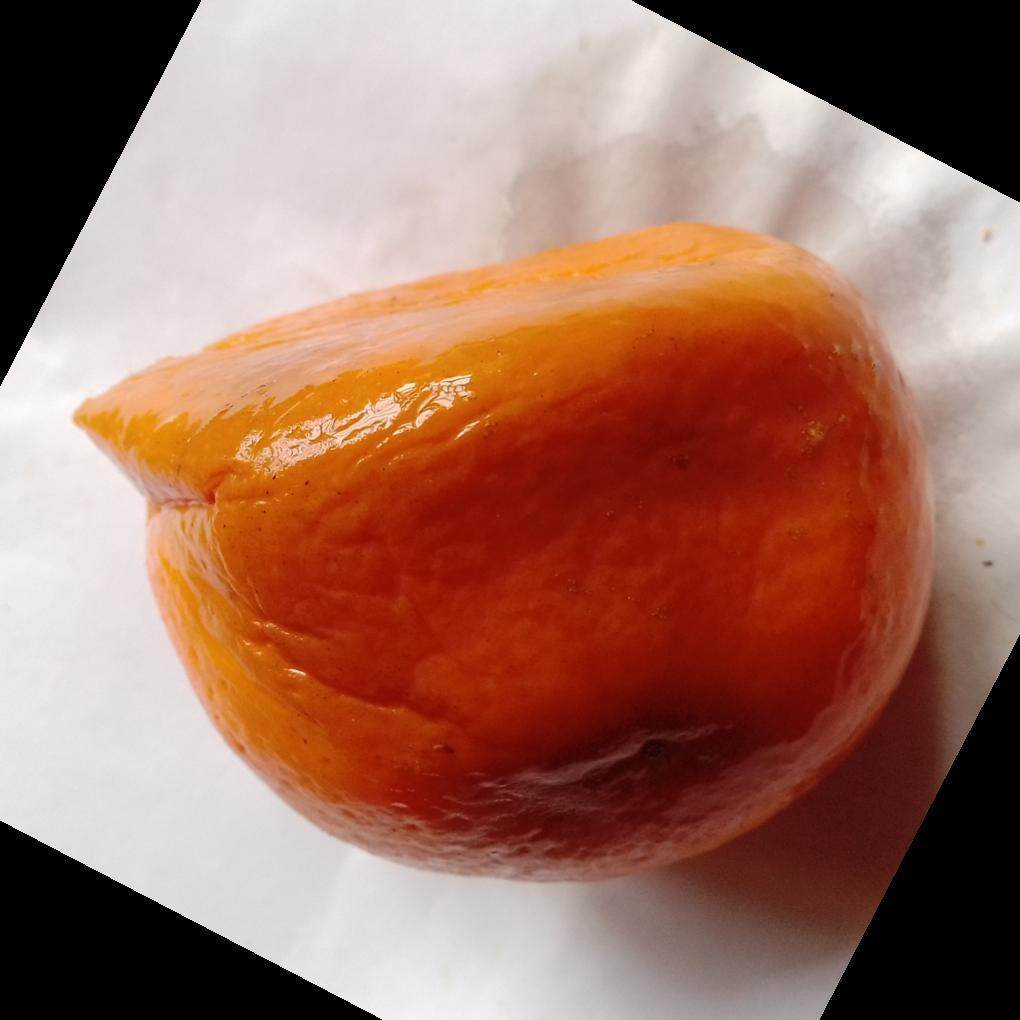FreshOrange: (73, 221, 937, 888)
